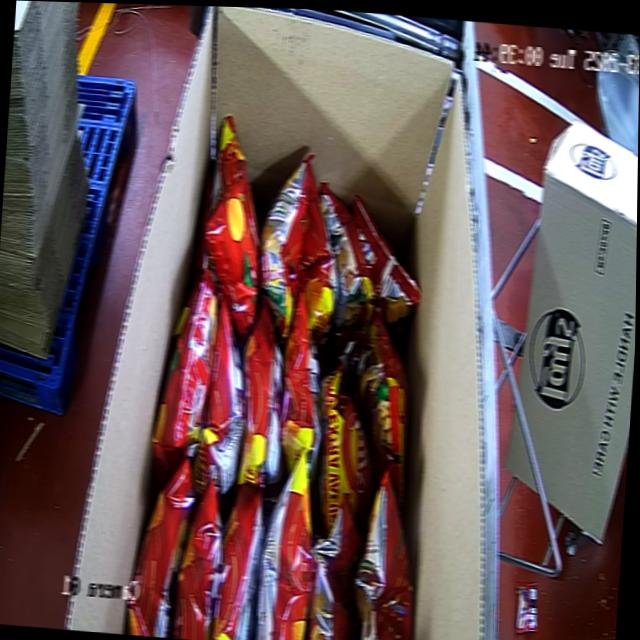MASALA: (125, 108, 447, 640)
